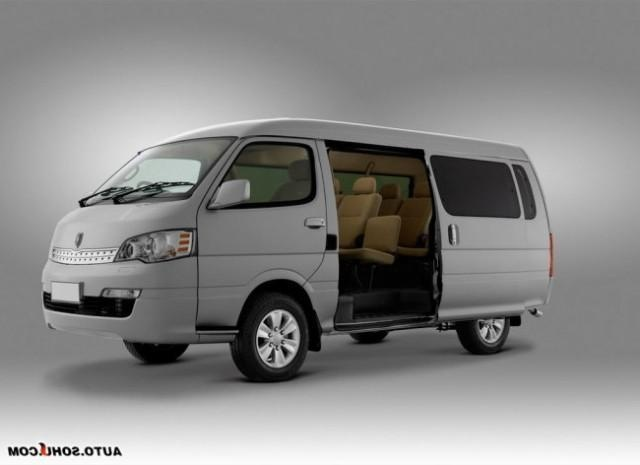van: (35, 116, 558, 381)
